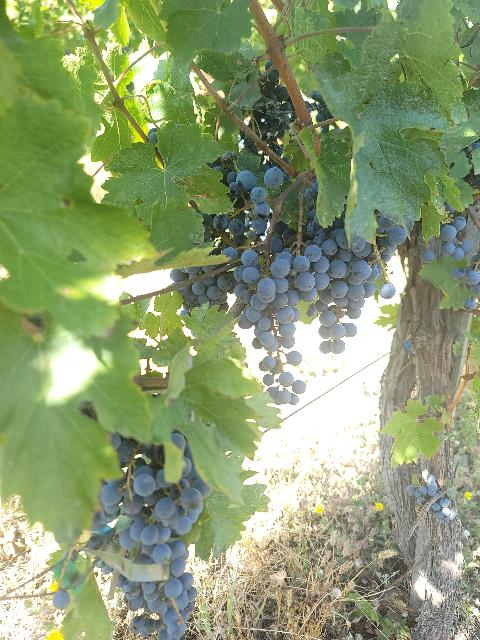grapes: (84, 432, 212, 640), (235, 259, 306, 404), (312, 229, 382, 354), (270, 245, 329, 302)
